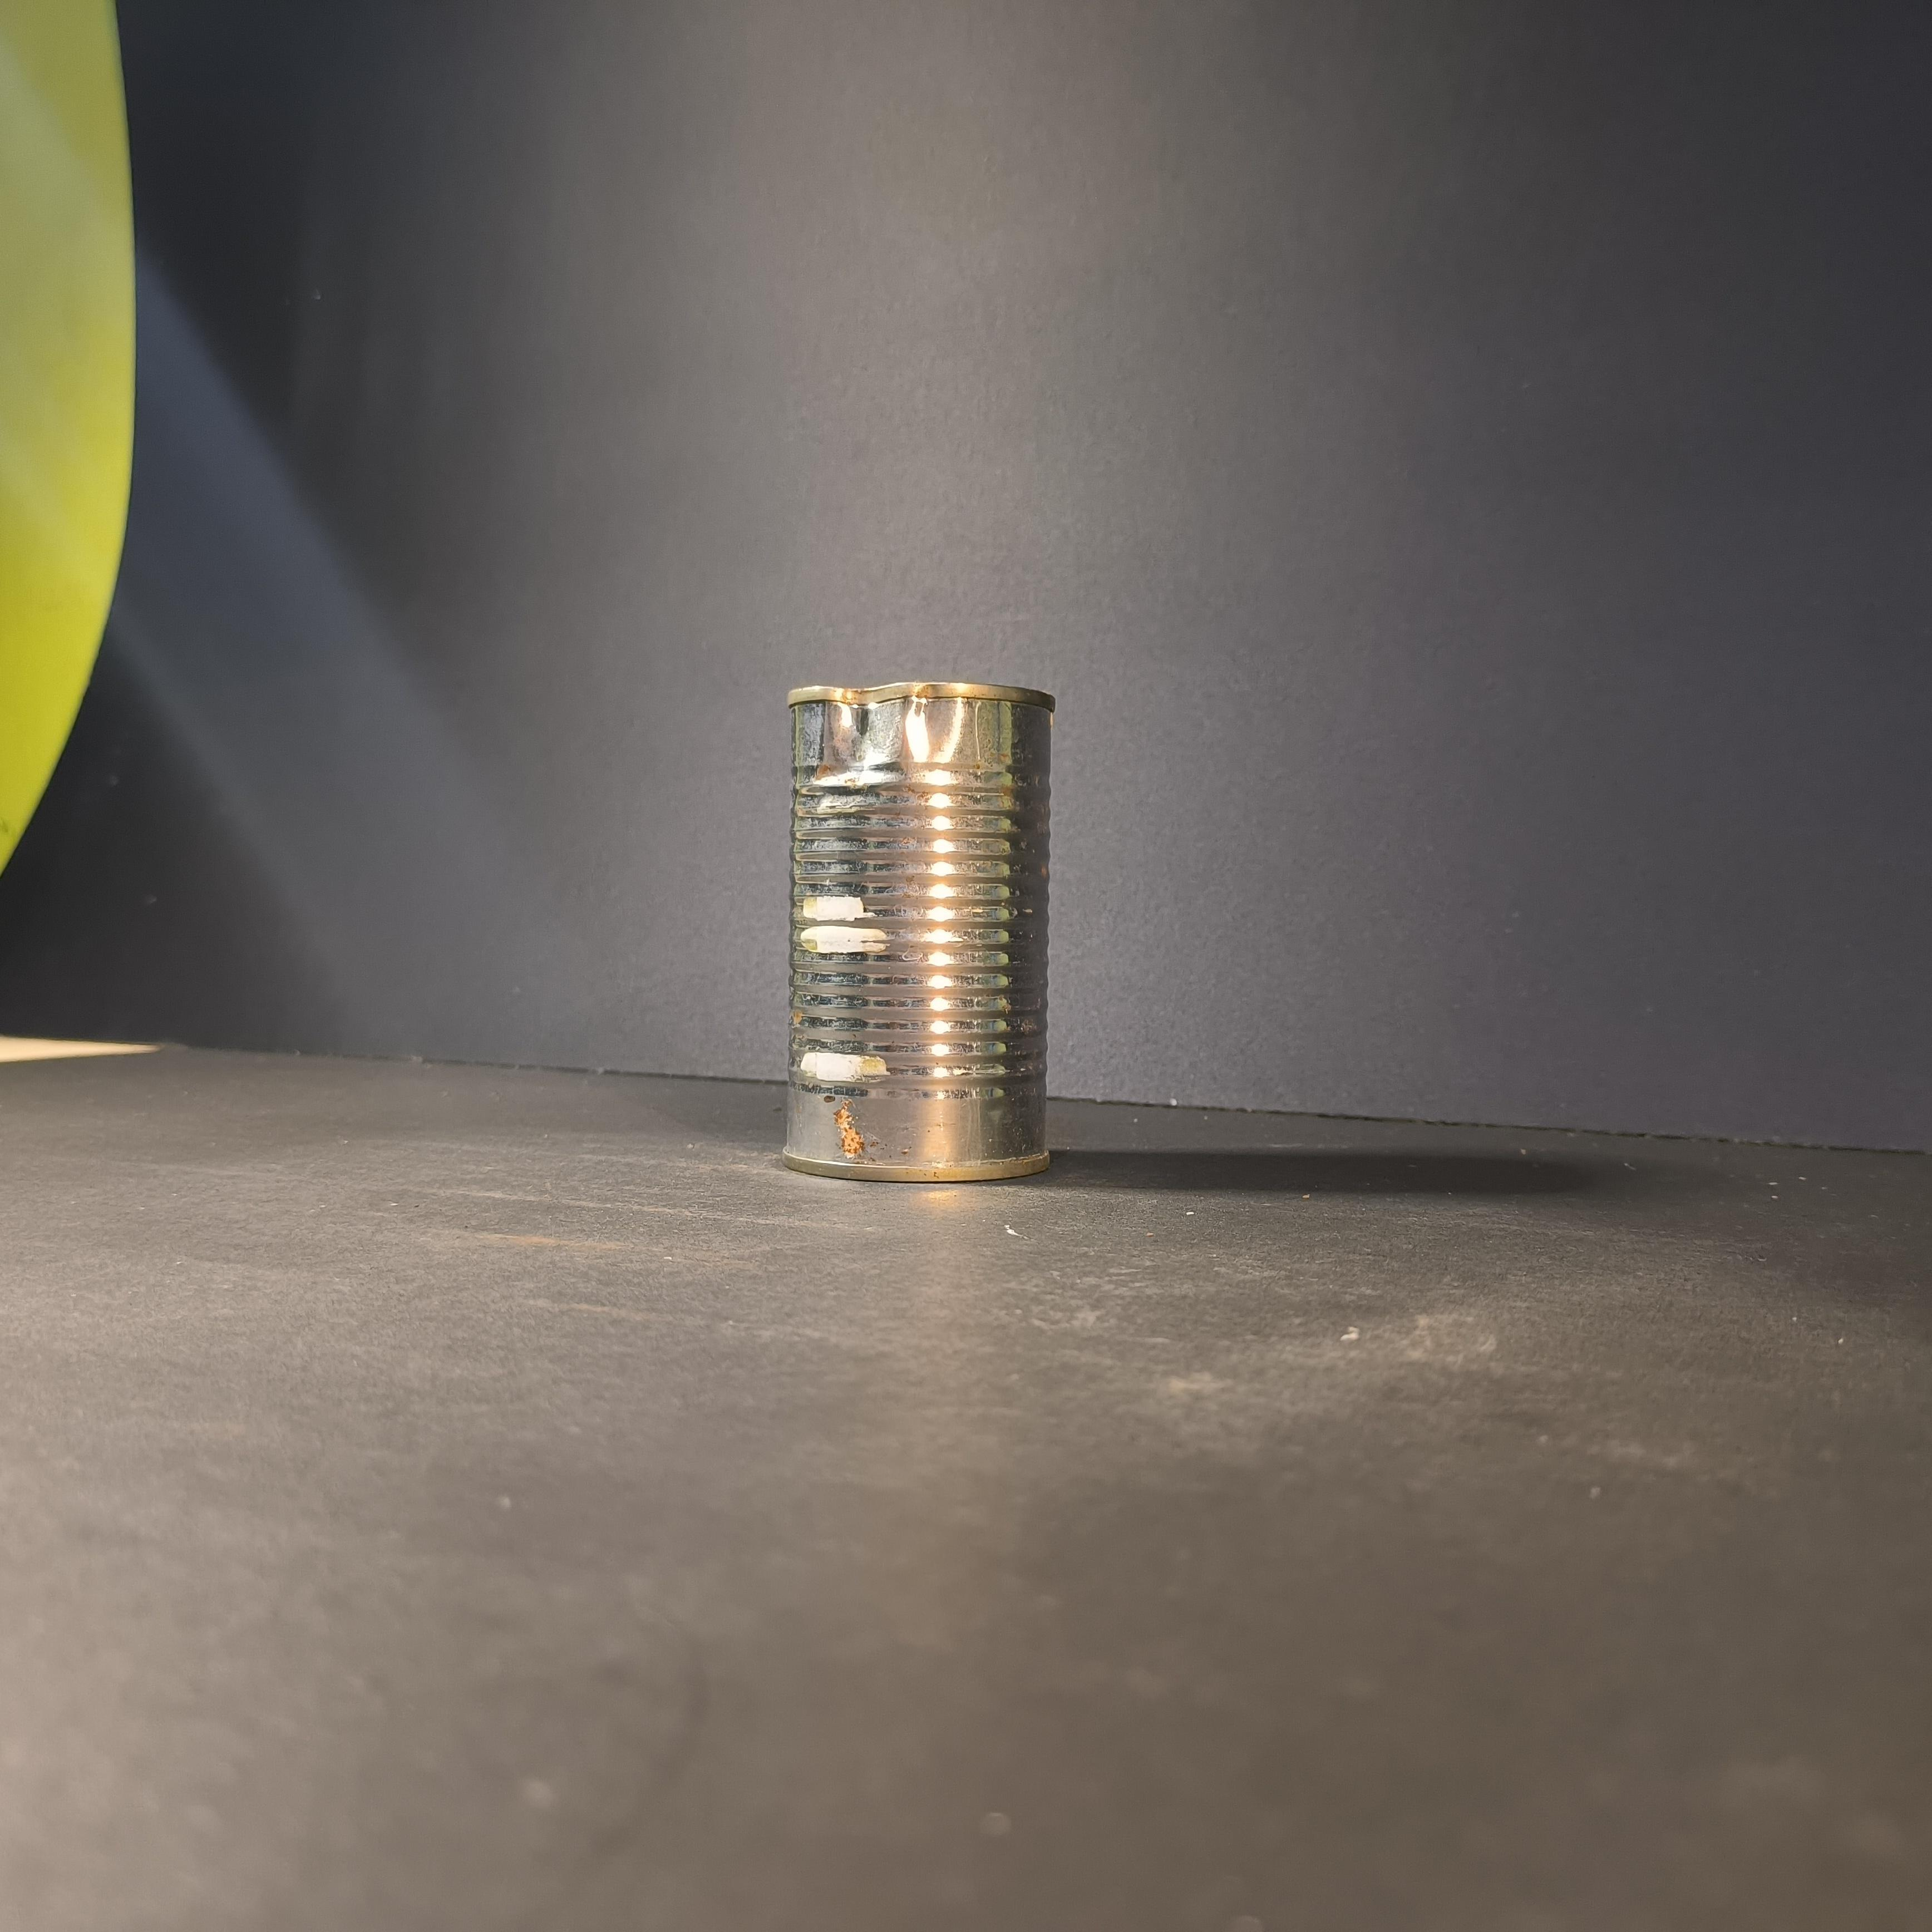Dented: (771, 655, 1069, 1207)
